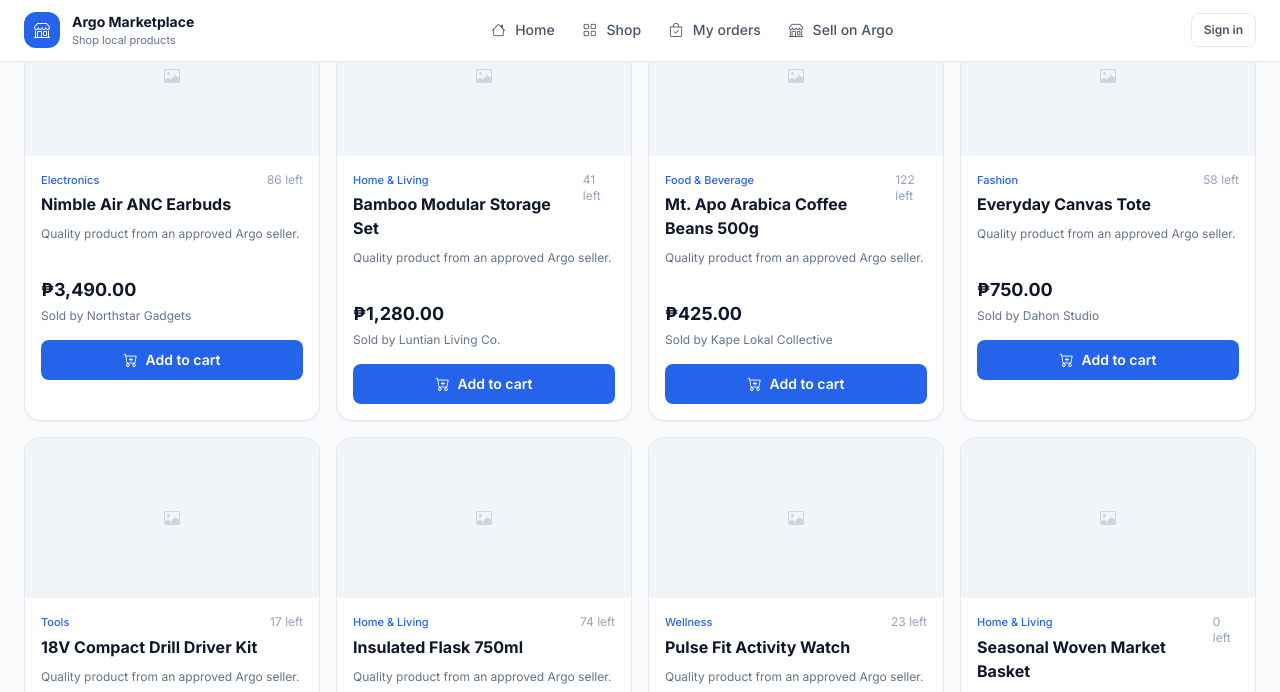
keeps the catalog public but requires a customer session for checkout
The image size is (1280, 692).
(page scrolled)
Click the button "Add to cart" below "₱3,490.00" at (172, 360), box [41, 340, 303, 380]
(page scrolled)
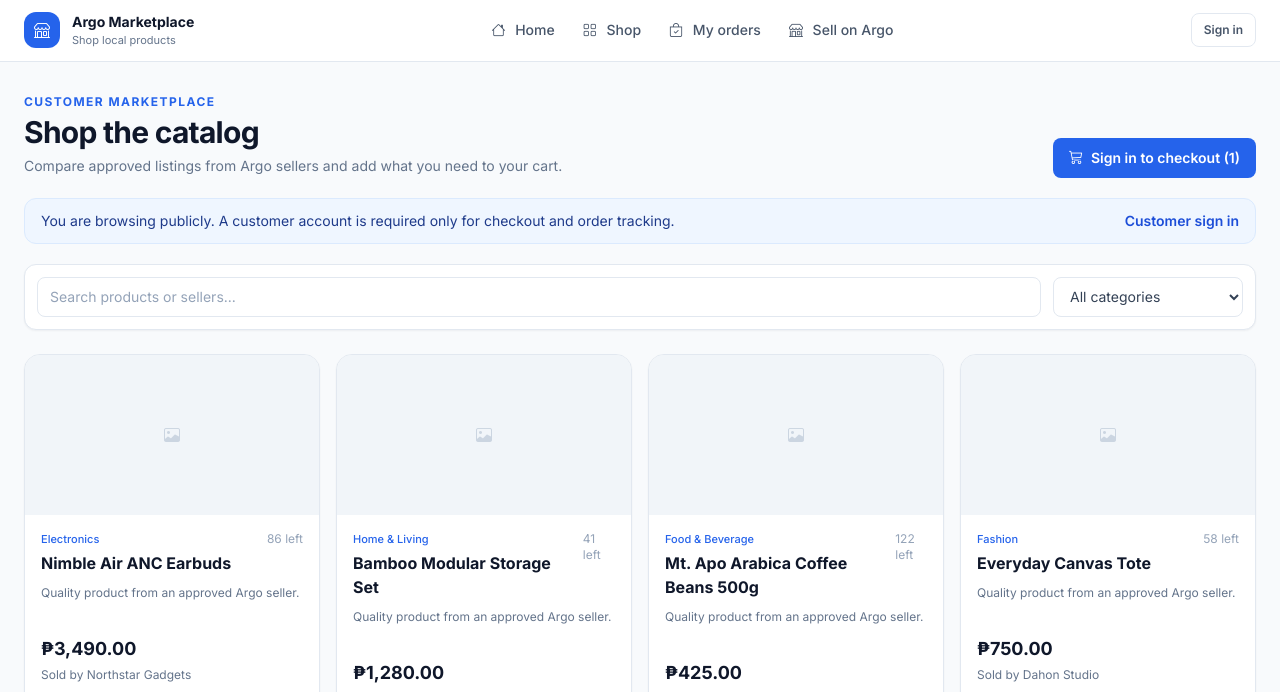
Click the button "Sign in to checkout (1)" at (1154, 158), box [1053, 138, 1256, 178]
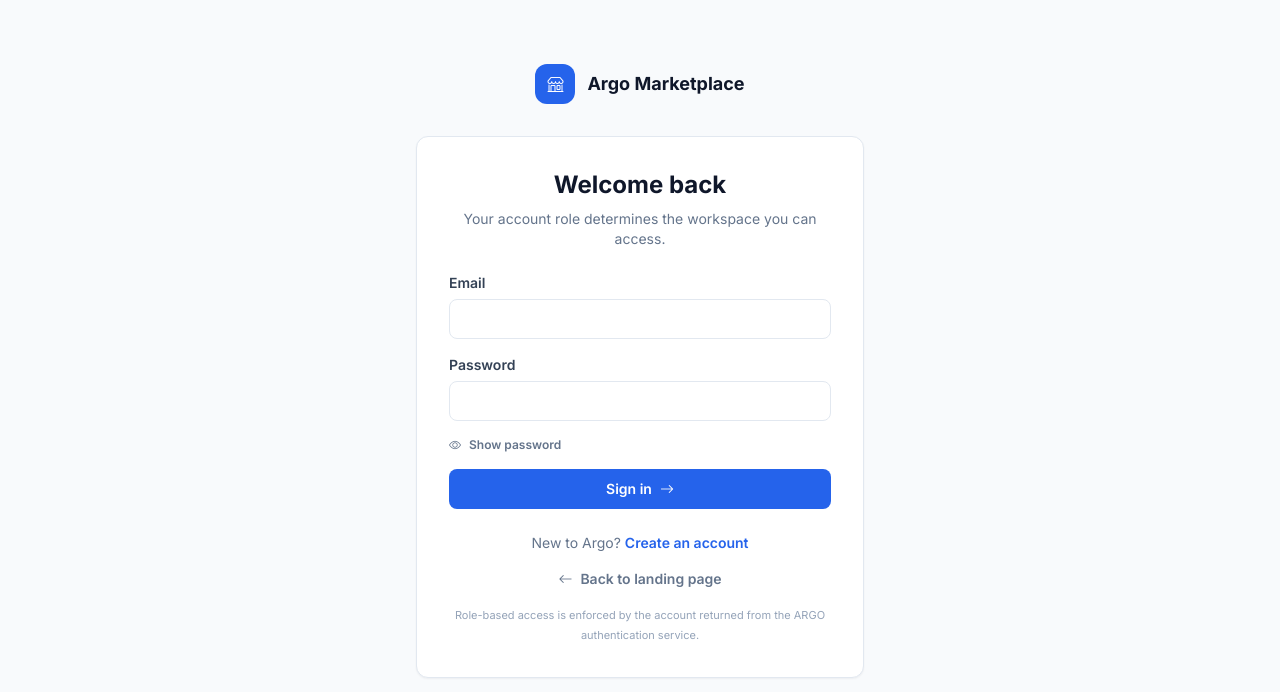
Now the heading "Welcome back" is shown, box [554, 170, 726, 199]
